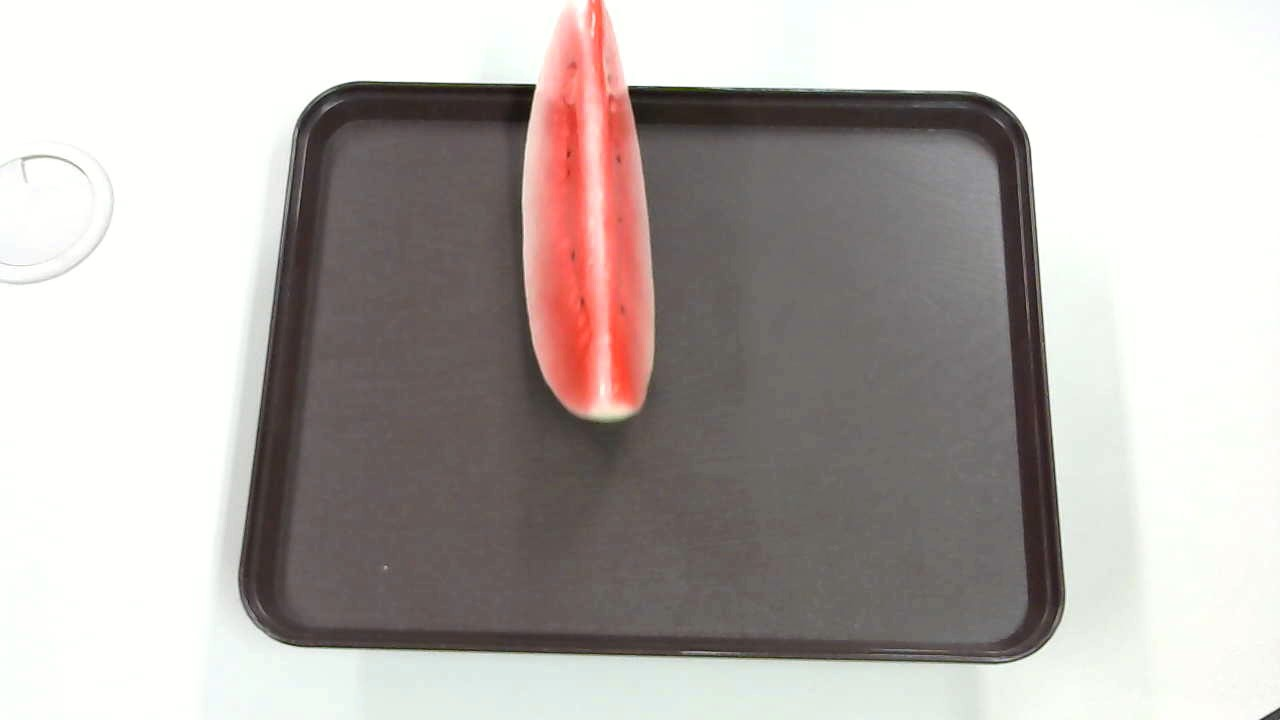water melon: (505, 1, 666, 420)
